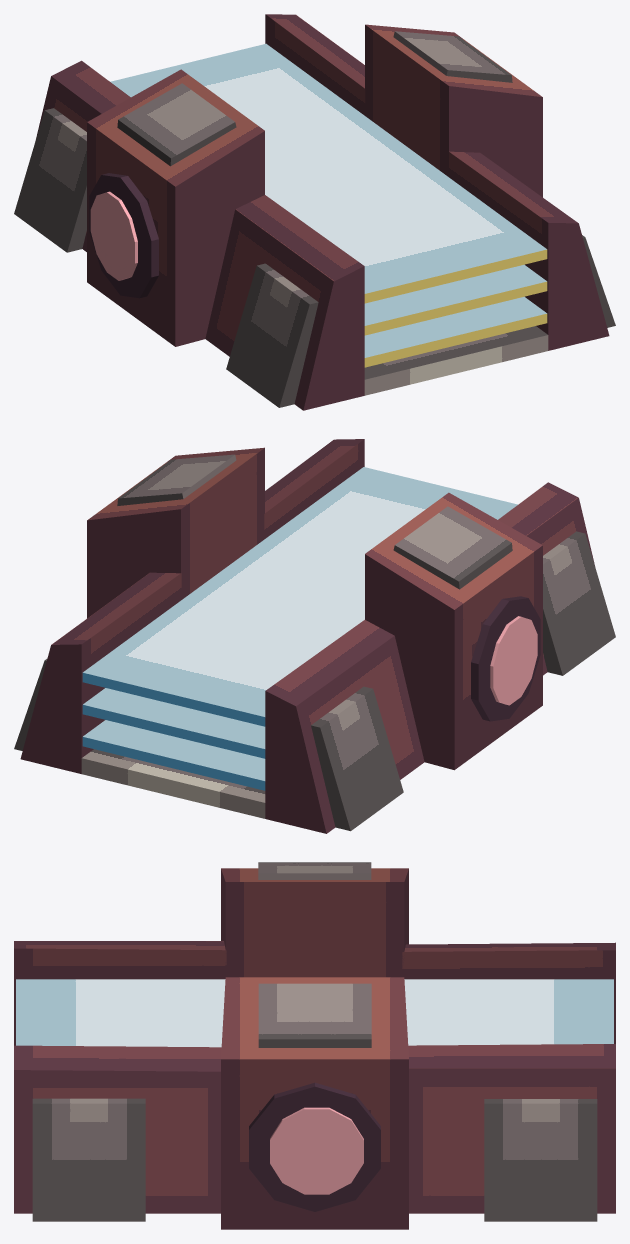
Rendered from MetalHamAdder.glb.
The picture shows the model from 3 angles, top to bottom: view 1: azimuth 30°, elevation 25°; view 2: azimuth 150°, elevation 25°; view 3: azimuth 270°, elevation 25°; orthographic projection. The views are drawn at different scales.
Parts seen in each view (by area): view 1: cuboid (×5), Belt, cylinder, Tomato; view 2: cuboid (×5), Belt, cylinder, Tomato; view 3: cuboid (×5), cylinder, Tomato.
Boxes of the visible parts, x1,y1,x2,y2 form: cuboid (×5): (14,14,615,410); Belt: (364,326,548,395); cylinder: (89,173,158,298); Tomato: (90,191,137,280); cuboid (×5): (14,439,615,833); Belt: (81,749,265,818); cylinder: (471,596,540,721); Tomato: (490,616,537,705); cuboid (×5): (14,862,615,1229); cylinder: (249,1082,380,1211); Tomato: (270,1107,363,1194).
Size of the model in its own units: 1.64 by 0.7539 by 2.
2 materials, 2 textured.
